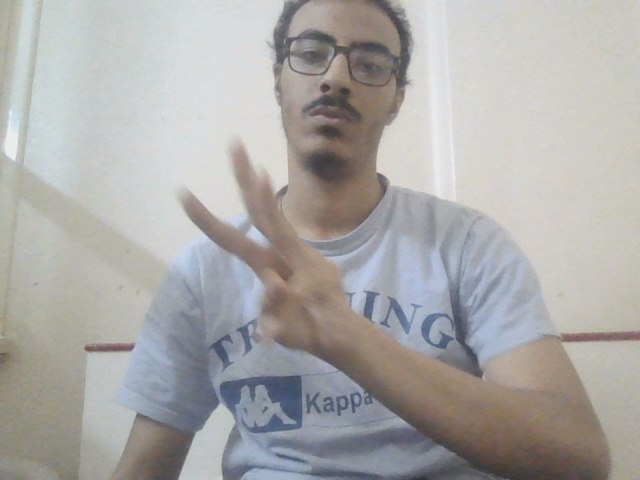Water: (161, 133, 365, 365)
